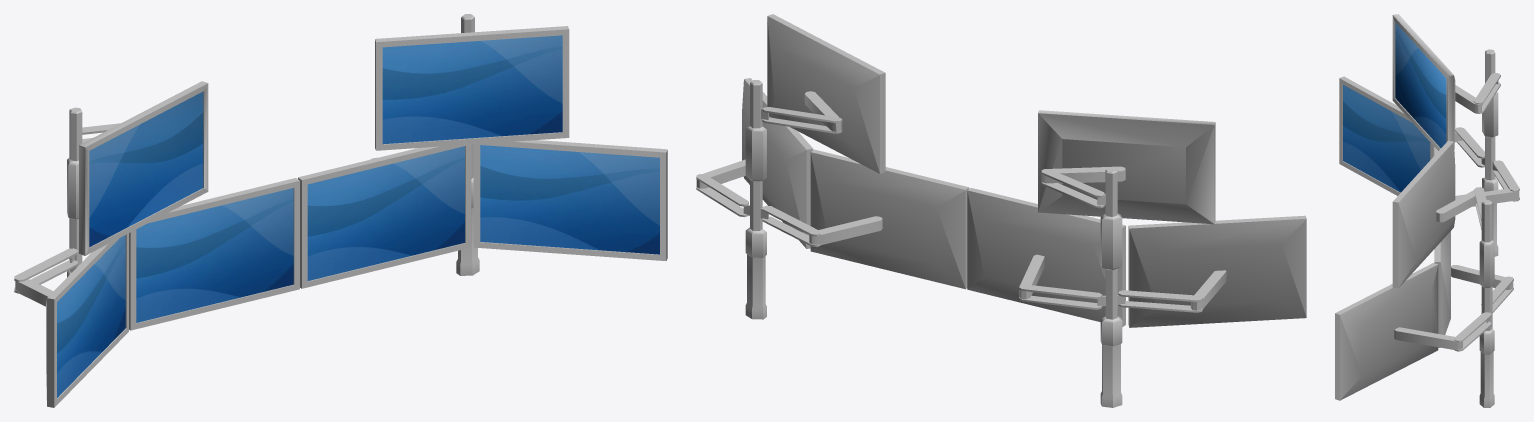
File: Office_ComputerMonitor_2_4x2c.fbx
3 views of the same model, side by side, from view 1: azimuth 30°, elevation 25°; view 2: azimuth 150°, elevation 25°; view 3: azimuth 270°, elevation 25° (orthographic). The views are drawn at different scales.
Parts seen in each view (by area): view 1: Office_ComputerMonitor_2_4x2c, Scrn64, Scrn66, Scrn65, Scrn63, Scrn62, Scrn61; view 2: Office_ComputerMonitor_2_4x2c; view 3: Office_ComputerMonitor_2_4x2c, Scrn61, Scrn62.
Part boxes in pixels (<box>): Office_ComputerMonitor_2_4x2c: <box>14,14,667,407</box>; Scrn64: <box>382,35,562,144</box>; Scrn66: <box>480,145,659,254</box>; Scrn65: <box>307,146,464,280</box>; Scrn63: <box>136,188,293,322</box>; Scrn62: <box>89,91,203,247</box>; Scrn61: <box>57,235,125,397</box>; Office_ComputerMonitor_2_4x2c: <box>696,14,1306,407</box>; Office_ComputerMonitor_2_4x2c: <box>1335,14,1519,407</box>; Scrn61: <box>1343,85,1430,192</box>; Scrn62: <box>1395,22,1446,147</box>.
Size of the model in its own units: 188 by 80.32 by 61.59.
